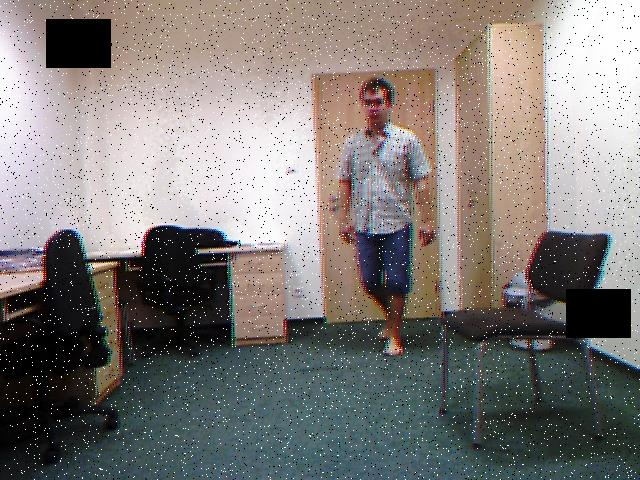walking: (334, 88, 432, 355)
